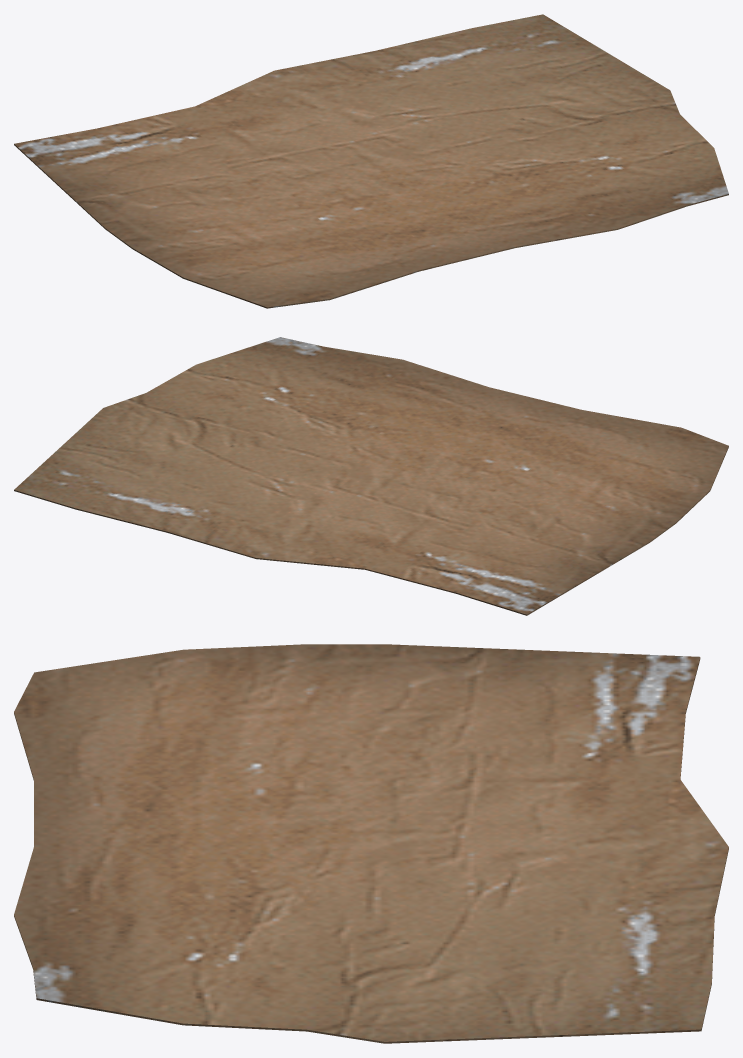
File: CardboardBoxFlattened2_SM.fbx
3 renders of one model, top to bottom at view 1: azimuth 30°, elevation 25°; view 2: azimuth 150°, elevation 25°; view 3: azimuth 270°, elevation 25°, orthographic. The views are drawn at different scales.
Parts seen in each view (by area): view 1: Box006; view 2: Box006; view 3: Box006.
Boxes of the visible parts, x1,y1,x2,y2 form: Box006: (14,14,728,308); Box006: (14,337,728,615); Box006: (14,644,728,1043).
Size of the model in its own units: 95.95 by 0.2024 by 72.9.
